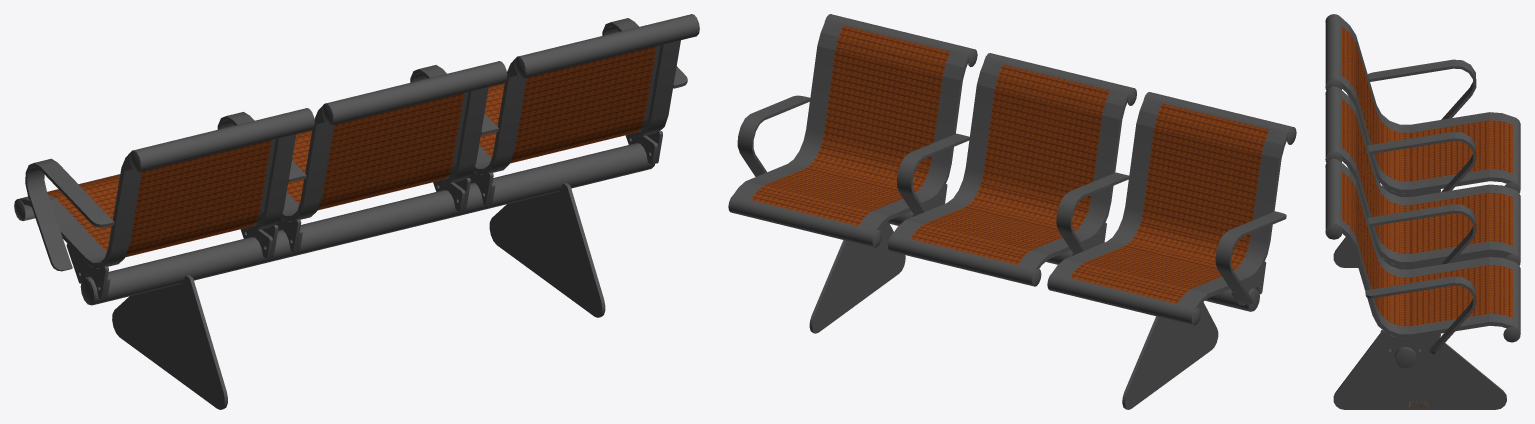
3 renders of one model, left to right at view 1: azimuth 30°, elevation 25°; view 2: azimuth 150°, elevation 25°; view 3: azimuth 270°, elevation 25°, orthographic. The views are drawn at different scales.
Parts seen in each view (by area): view 1: mesh1_mesh1-geometry, mesh25_mesh25-geometry, mesh66_mesh66-geometry, mesh56_mesh56-geometry, mesh57_mesh57-geometry, mesh5_mesh5-geometry, mesh46_mesh46-geometry, mesh4_mesh4-geometry, mesh47_mesh47-geometry, mesh37_mesh37-geometry, mesh3_mesh3-geometry, mesh6_mesh6-geometry (+2 smaller); view 2: mesh1_mesh1-geometry, mesh25_mesh25-geometry, mesh57_mesh57-geometry, mesh56_mesh56-geometry, mesh3_mesh3-geometry, mesh46_mesh46-geometry, mesh36_mesh36-geometry, mesh5_mesh5-geometry, mesh66_mesh66-geometry; view 3: mesh1_mesh1-geometry, mesh25_mesh25-geometry, mesh56_mesh56-geometry, mesh3_mesh3-geometry, mesh36_mesh36-geometry, mesh4_mesh4-geometry, mesh46_mesh46-geometry, mesh37_mesh37-geometry, mesh38_mesh38-geometry, mesh57_mesh57-geometry, mesh24_mesh24-geometry, mesh7_mesh7-geometry (+2 smaller).
Boxes of the visible parts, bbox=[...] form: mesh1_mesh1-geometry: bbox=[47, 46, 656, 257]; mesh25_mesh25-geometry: bbox=[18, 14, 699, 263]; mesh66_mesh66-geometry: bbox=[84, 143, 654, 305]; mesh56_mesh56-geometry: bbox=[489, 183, 605, 317]; mesh57_mesh57-geometry: bbox=[112, 275, 227, 409]; mesh5_mesh5-geometry: bbox=[281, 60, 525, 221]; mesh46_mesh46-geometry: bbox=[25, 158, 114, 271]; mesh4_mesh4-geometry: bbox=[246, 87, 488, 230]; mesh47_mesh47-geometry: bbox=[20, 154, 140, 268]; mesh37_mesh37-geometry: bbox=[631, 40, 680, 136]; mesh3_mesh3-geometry: bbox=[217, 65, 498, 182]; mesh6_mesh6-geometry: bbox=[276, 171, 493, 252]; mesh1_mesh1-geometry: bbox=[751, 25, 1269, 303]; mesh25_mesh25-geometry: bbox=[729, 14, 1292, 325]; mesh57_mesh57-geometry: bbox=[1122, 302, 1218, 409]; mesh56_mesh56-geometry: bbox=[809, 223, 905, 333]; mesh3_mesh3-geometry: bbox=[897, 133, 1129, 254]; mesh46_mesh46-geometry: bbox=[1215, 211, 1286, 304]; mesh36_mesh36-geometry: bbox=[737, 95, 810, 176]; mesh5_mesh5-geometry: bbox=[877, 58, 1127, 268]; mesh66_mesh66-geometry: bbox=[886, 211, 1256, 311]; mesh1_mesh1-geometry: bbox=[1341, 26, 1513, 326]; mesh25_mesh25-geometry: bbox=[1325, 14, 1520, 340]; mesh56_mesh56-geometry: bbox=[1333, 333, 1506, 409]; mesh3_mesh3-geometry: bbox=[1367, 132, 1476, 264]; mesh36_mesh36-geometry: bbox=[1365, 276, 1476, 354]; mesh4_mesh4-geometry: bbox=[1341, 84, 1511, 265]; mesh46_mesh46-geometry: bbox=[1368, 59, 1476, 119]; mesh37_mesh37-geometry: bbox=[1341, 228, 1511, 338]; mesh38_mesh38-geometry: bbox=[1380, 330, 1440, 358]; mesh57_mesh57-geometry: bbox=[1333, 237, 1506, 267]; mesh24_mesh24-geometry: bbox=[1325, 79, 1342, 239]; mesh7_mesh7-geometry: bbox=[1381, 185, 1440, 269].
Size of the model in its own units: 0.8619 by 0.3947 by 0.3184.
